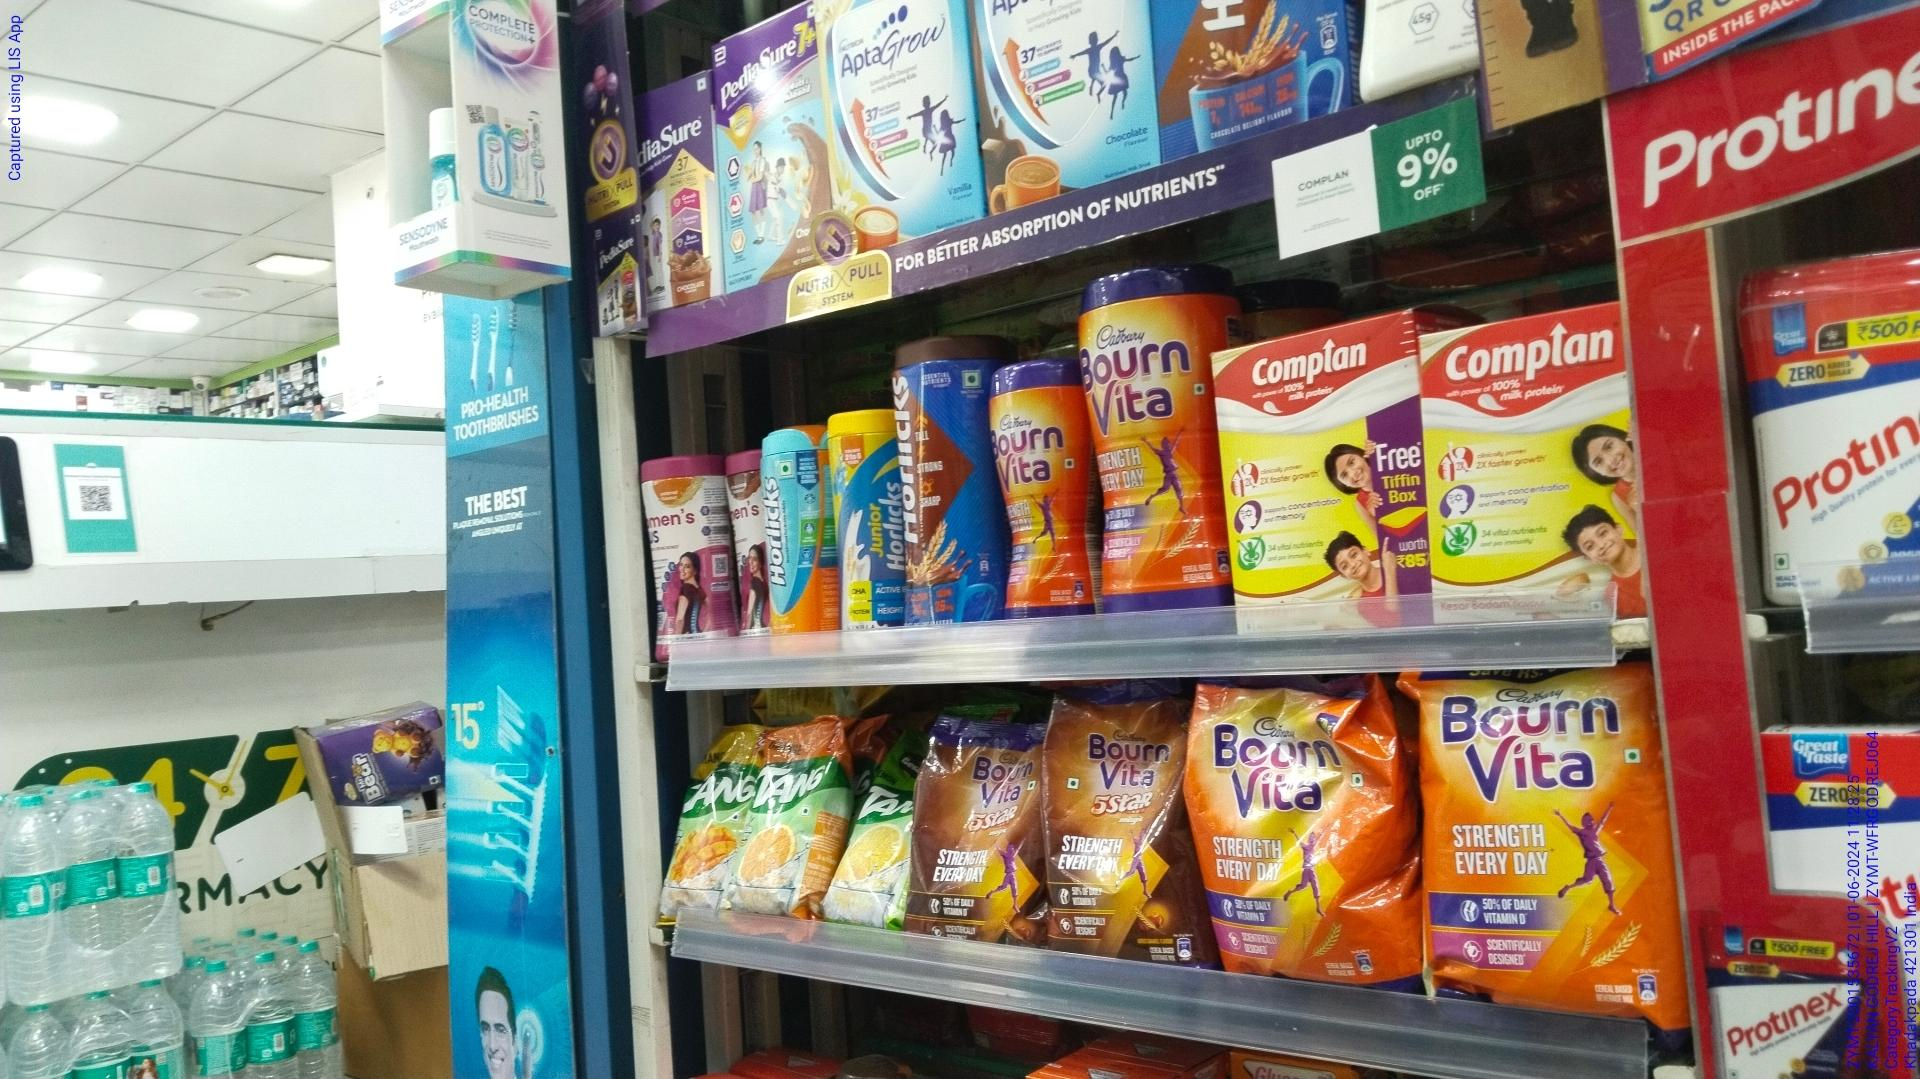BOURN_VITA_FIVE_STAR_MAGIC_500_G_POUCH: (910, 714, 1036, 947)
BOURN_VITA_FIVE_STAR_MAGIC_750_G_POUCH: (1048, 691, 1201, 972)
HORLICKS_JUNIOR_VANILLA_500_GM_JAR: (833, 408, 905, 627)
HORLICKS_LITE_REGULAR_MALT_500_GM_JAR: (762, 422, 824, 645)
PEDIASURE_CHOCOLATE_500_G_PACK: (632, 74, 711, 310)
